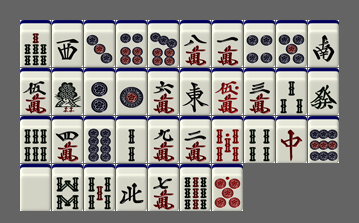0m: (212, 68, 243, 115)
0p: (212, 164, 243, 211)
0s: (212, 116, 243, 163)
1m: (212, 20, 243, 67)
1p: (116, 68, 147, 115)
1s: (52, 68, 83, 115)
1z: (180, 68, 211, 115)
2m: (180, 116, 211, 163)
2p: (84, 68, 115, 115)
2s: (116, 116, 147, 163)
2z: (308, 20, 339, 67)
3m: (244, 68, 275, 115)
3p: (84, 20, 115, 67)
3s: (276, 68, 307, 115)
3z: (52, 20, 83, 67)
4m: (52, 116, 83, 163)
4p: (244, 20, 275, 67)
4s: (244, 116, 275, 163)
4z: (116, 164, 147, 211)
5m: (20, 68, 51, 115)
5p: (276, 20, 307, 67)
5s: (84, 164, 115, 211)
5z: (20, 164, 51, 211)
6m: (148, 68, 179, 115)
6p: (116, 20, 147, 67)
6s: (20, 116, 51, 163)
6z: (308, 68, 339, 115)
7m: (148, 164, 179, 211)
7p: (148, 20, 179, 67)
7s: (20, 20, 51, 67)
7z: (276, 116, 307, 163)
8m: (180, 20, 211, 67)
8p: (84, 116, 115, 163)
8s: (52, 164, 83, 211)
9m: (148, 116, 179, 163)
9p: (308, 116, 339, 163)
9s: (180, 164, 211, 211)
